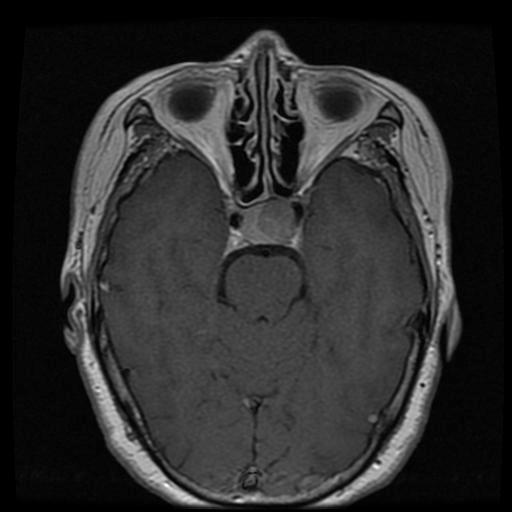Tumour-Pituitary: (216, 201, 315, 265)
